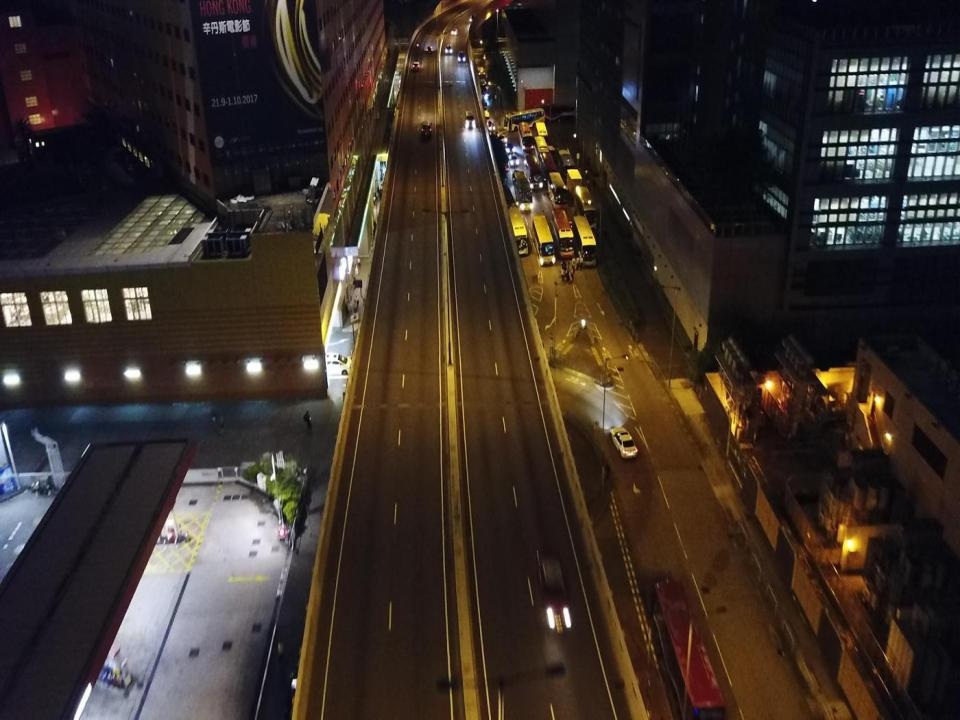bus: (648, 578, 728, 719), (573, 215, 597, 267), (552, 209, 575, 259), (533, 216, 555, 264), (507, 206, 528, 256), (574, 186, 596, 229), (504, 108, 544, 130), (514, 170, 533, 211), (548, 172, 568, 209), (524, 155, 543, 189), (556, 146, 575, 179), (539, 152, 558, 185), (518, 121, 534, 152), (534, 136, 550, 166), (535, 123, 549, 147), (479, 79, 488, 97), (478, 66, 486, 78)
car: (535, 546, 573, 633), (289, 672, 312, 718), (610, 428, 636, 458), (513, 170, 525, 188), (422, 122, 431, 136), (509, 154, 518, 166), (505, 144, 515, 154), (458, 51, 466, 63), (498, 134, 507, 142), (445, 44, 451, 54), (413, 61, 419, 71), (488, 121, 494, 130), (469, 15, 475, 23), (452, 27, 458, 35), (427, 47, 432, 53)
van: (315, 354, 353, 373), (466, 110, 474, 127)
